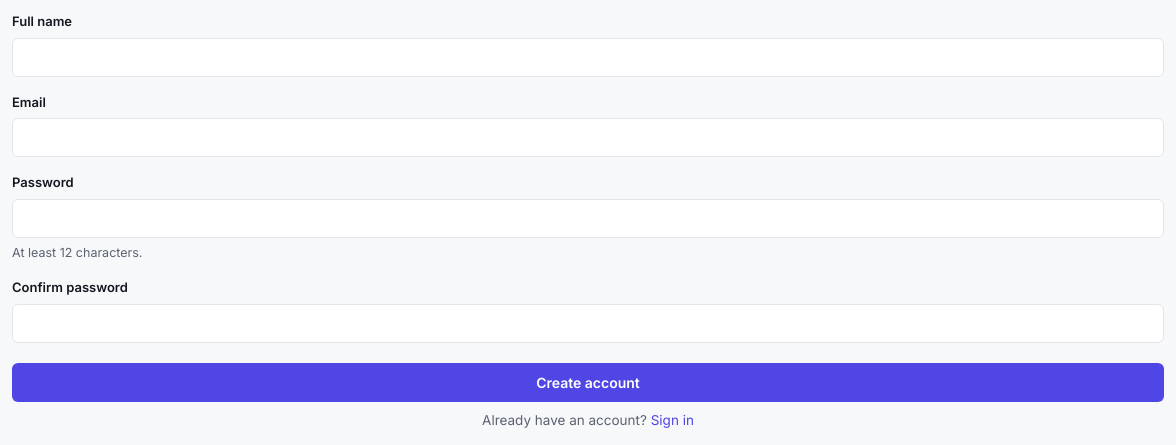
SignupForm › submits and shows the verification prompt on success
In the field labelled "Full name": {"x": 588, "y": 57} [12, 38, 1164, 76], type "Ada Lovelace"
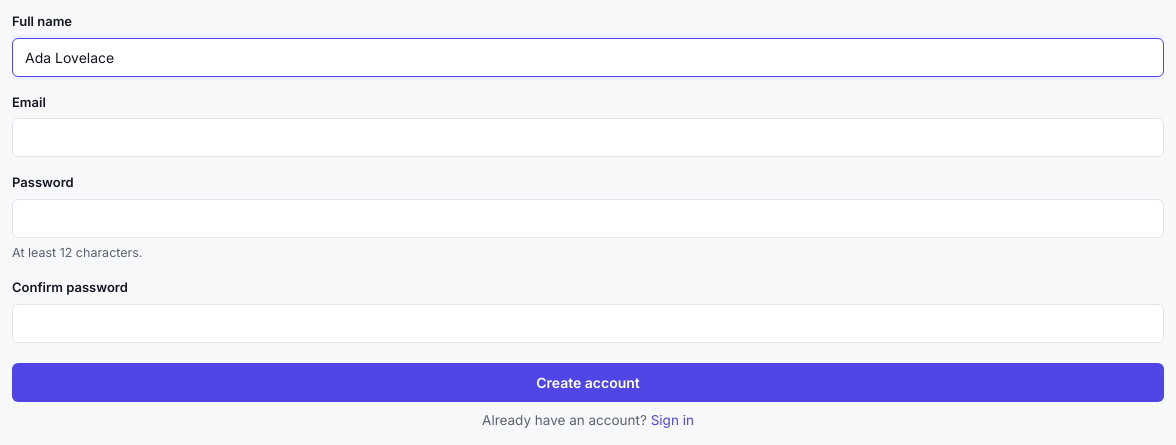
In the field labelled "Email": {"x": 588, "y": 138} [12, 118, 1164, 157], type "ada@example.com"
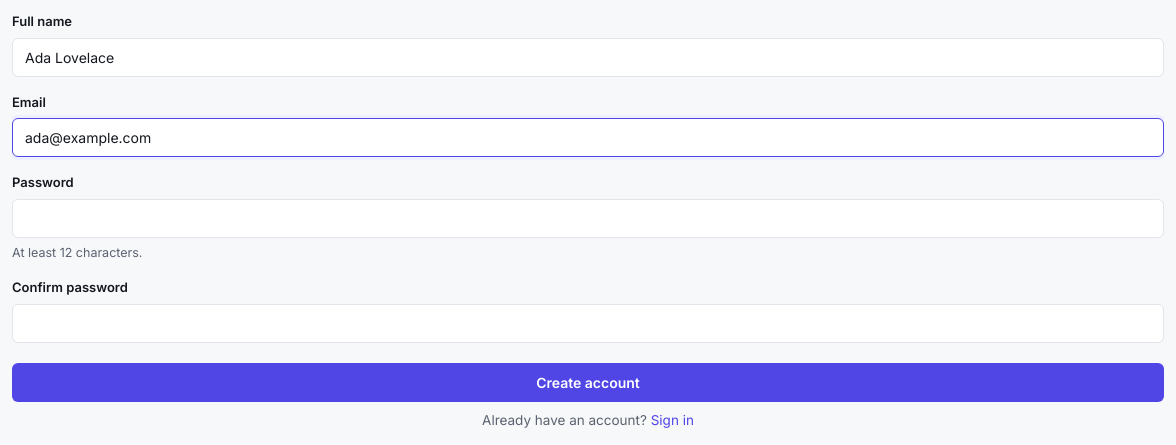
In the password field labelled "Password": {"x": 588, "y": 218} [12, 198, 1164, 238], type "a-strong-password-123"
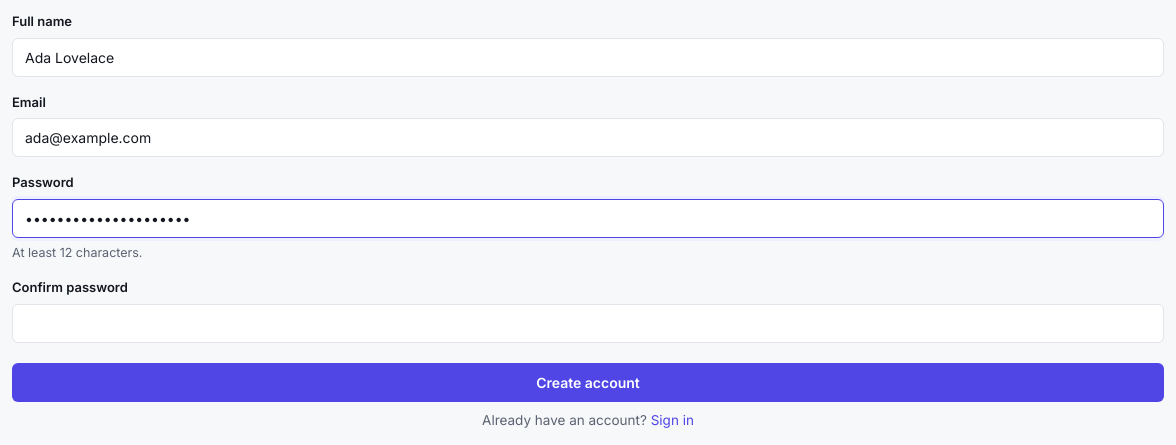
In the password field labelled "Confirm password": {"x": 588, "y": 323} [12, 304, 1164, 343], type "a-strong-password-123"
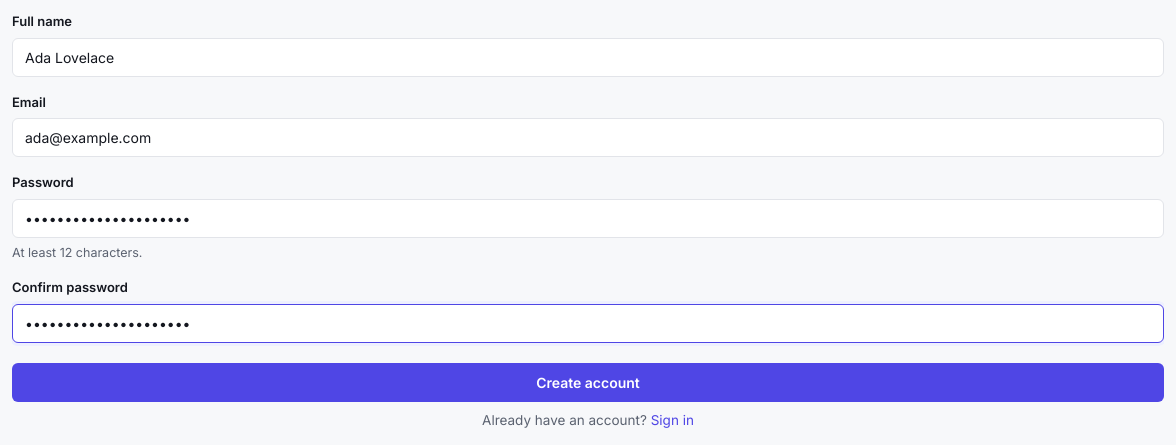
Click the button "Create account": {"x": 588, "y": 382} [12, 363, 1164, 402]
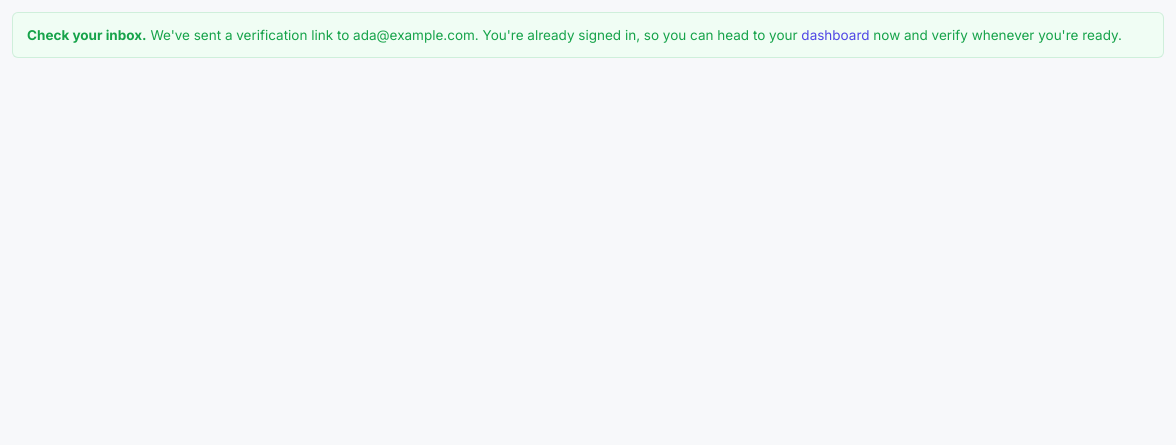
Check: the text "Check your inbox." is shown, box [27, 27, 147, 43]
